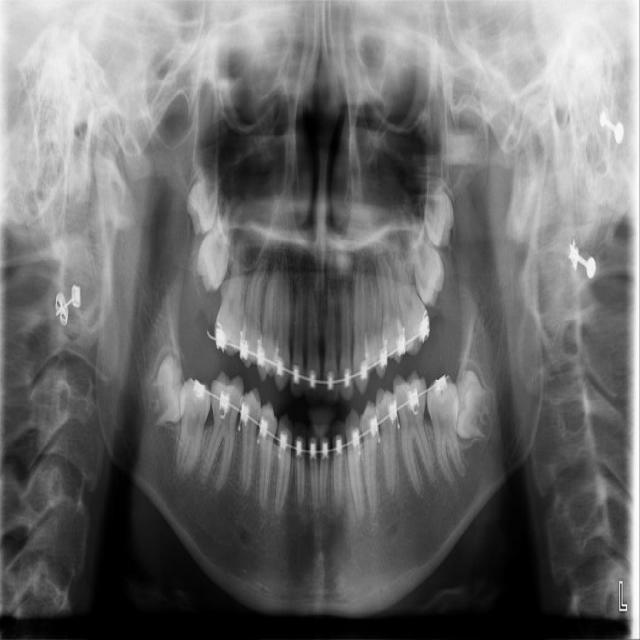3M ESPE Implant: (183, 170, 221, 239)
73: (614, 611, 624, 620)
BioHorizons Implant: (396, 192, 453, 310)
BioLife Implant: (418, 179, 459, 251)
Biomet 3i Implant: (447, 368, 498, 444)
Blue Sky Bio Implant: (424, 375, 469, 490)
Caries: (189, 190, 249, 296)
Implant: (175, 377, 212, 478)
Keystone Dental Implant: (145, 351, 188, 429)
